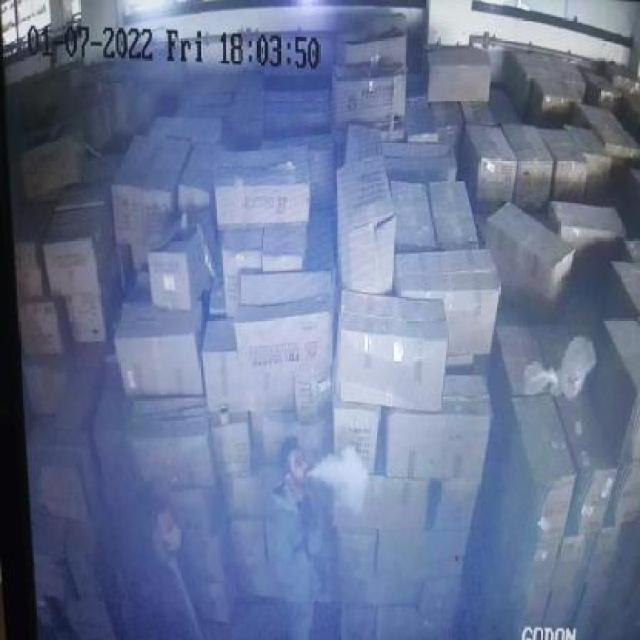fire: (312, 439, 371, 519)
